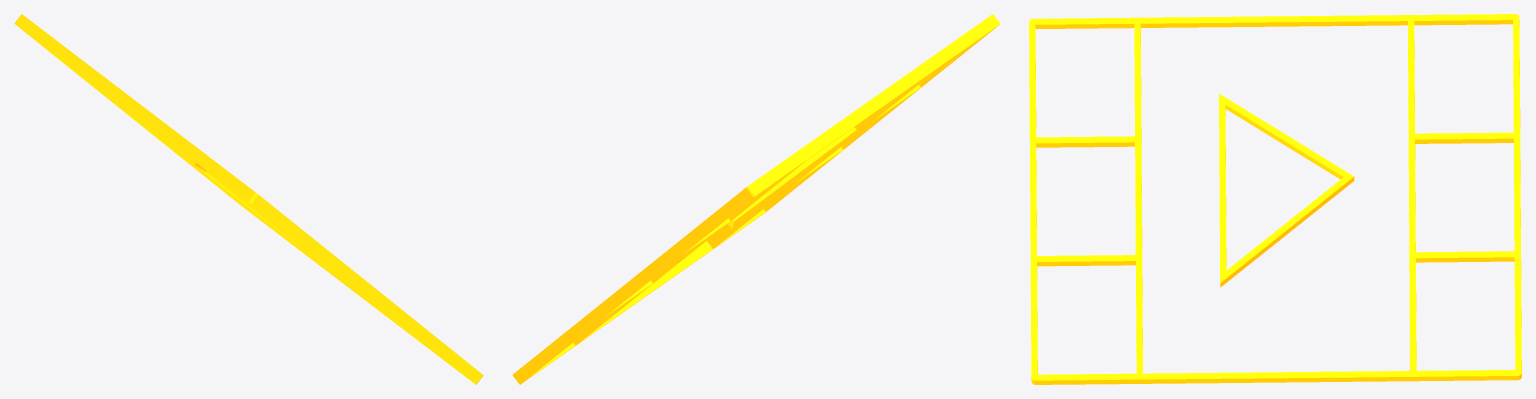
Rendered from video_selected.glb.
3 renders of one model, left to right at view 1: azimuth 30°, elevation 25°; view 2: azimuth 150°, elevation 25°; view 3: azimuth 270°, elevation 25°, orthographic. The views are drawn at different scales.
Visible parts, largest first — view 1: video_selected; view 2: video_selected; view 3: video_selected.
Part boxes in pixels (x1,y1,x2,y2): video_selected: (14, 14, 483, 384); video_selected: (512, 14, 1000, 384); video_selected: (1029, 14, 1521, 384).
Bounding box in the file's own units: 0.0269 × 0.0273 × 0.0469.
